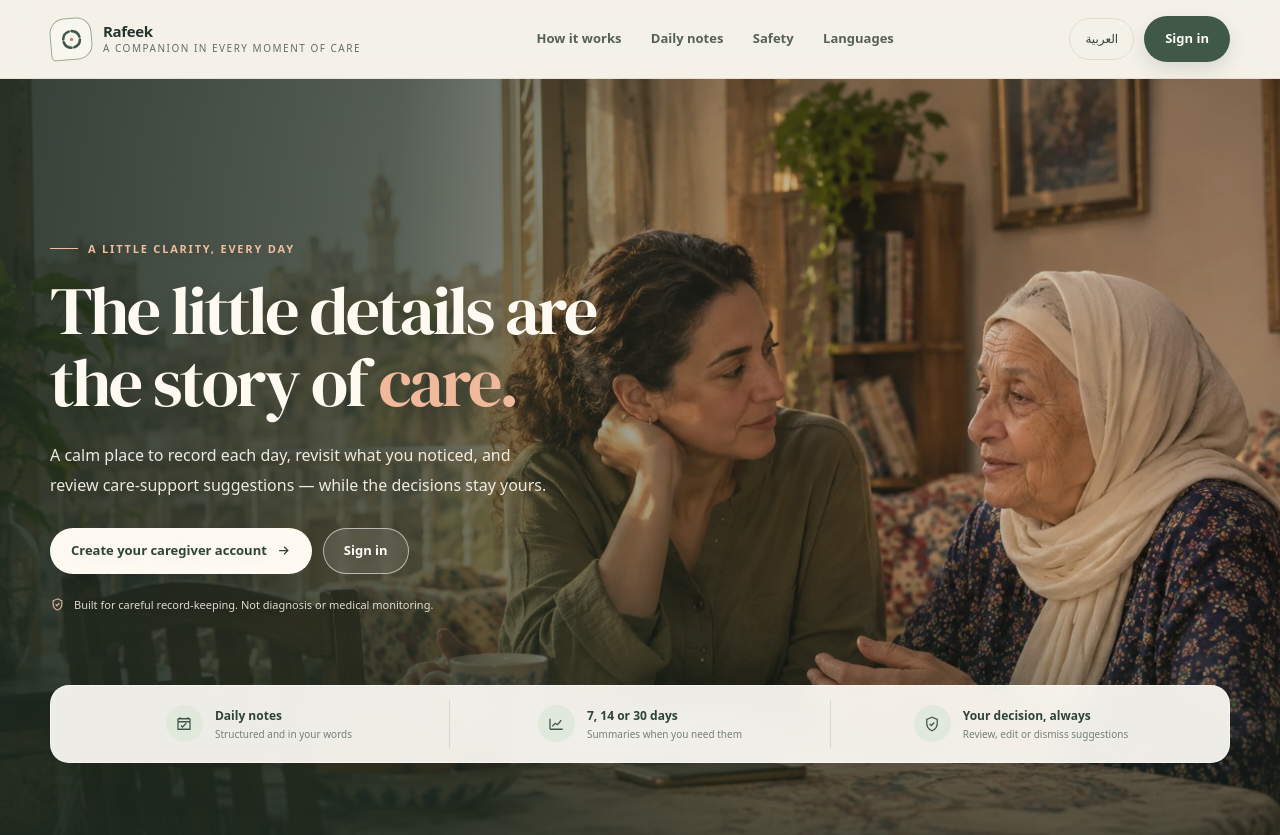
Scenario: public landing page › switches language and document direction using the existing i18n provider
Expected: the navigation bar named "Main navigation" is shown, [537, 28, 894, 50]
Click the button with class "language-toggle" at (1102, 39), box [1069, 18, 1134, 60]
(page scrolled)
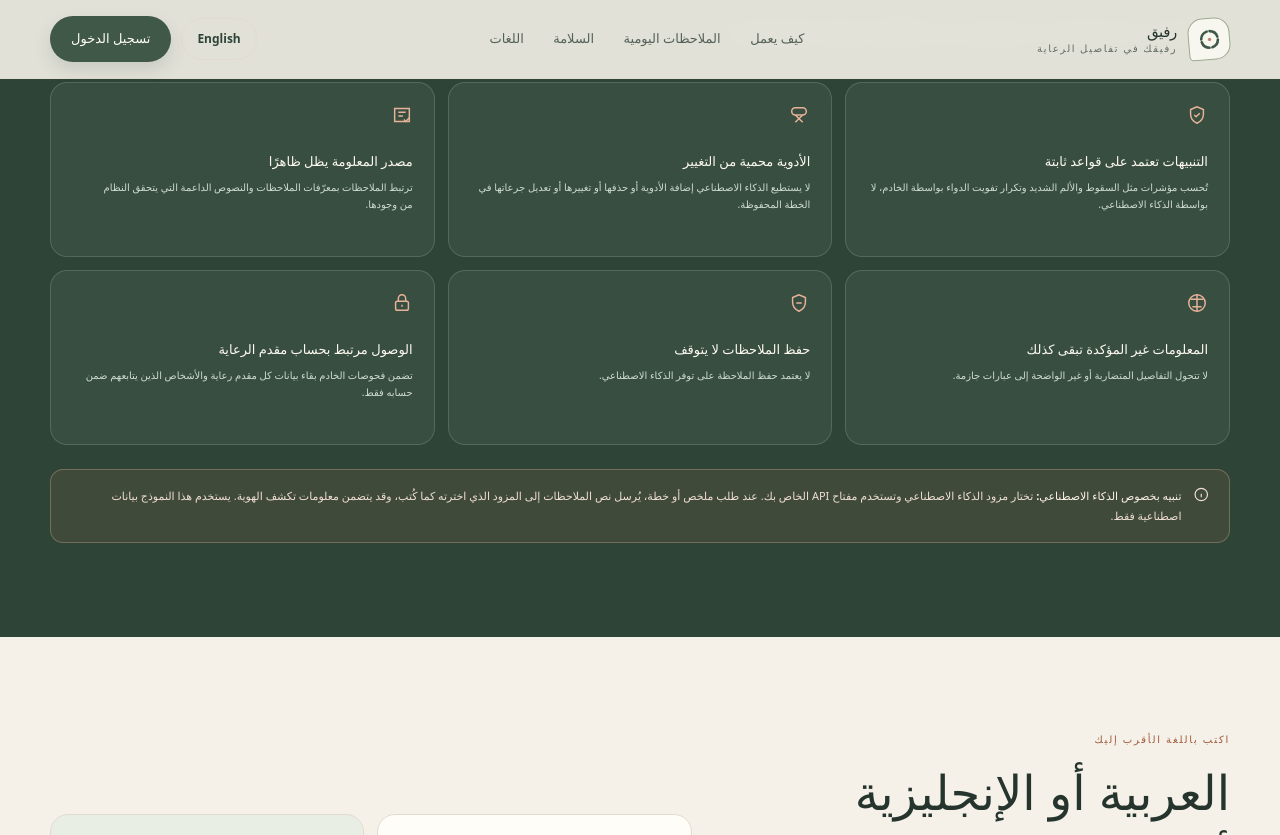
Now the button with class "language-toggle" reads "English", box [181, 18, 257, 60]
Now the text "كما كُتب، وقد يتضمن معلومات تكشف الهوية" is shown, box [112, 488, 1182, 523]
